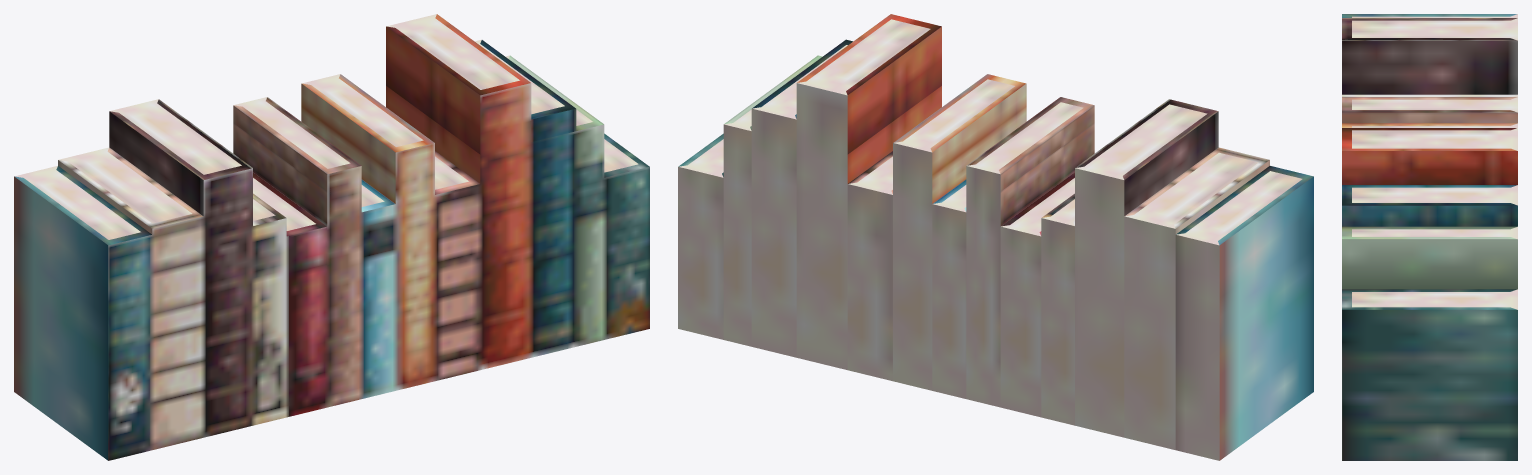
The model's file is books.obj.
3 renders of one model, left to right at view 1: azimuth 30°, elevation 25°; view 2: azimuth 150°, elevation 25°; view 3: azimuth 270°, elevation 25°, orthographic. The views are drawn at different scales.
Visible parts, largest first — view 1: books; view 2: books; view 3: books.
Part boxes in pixels (x1=…): books: x1=14, y1=14, x2=649, y2=460; books: x1=678, y1=14, x2=1313, y2=460; books: x1=1342, y1=14, x2=1517, y2=460.
Bounding box in the file's own units: 0.7461 × 0.3618 × 0.225.
